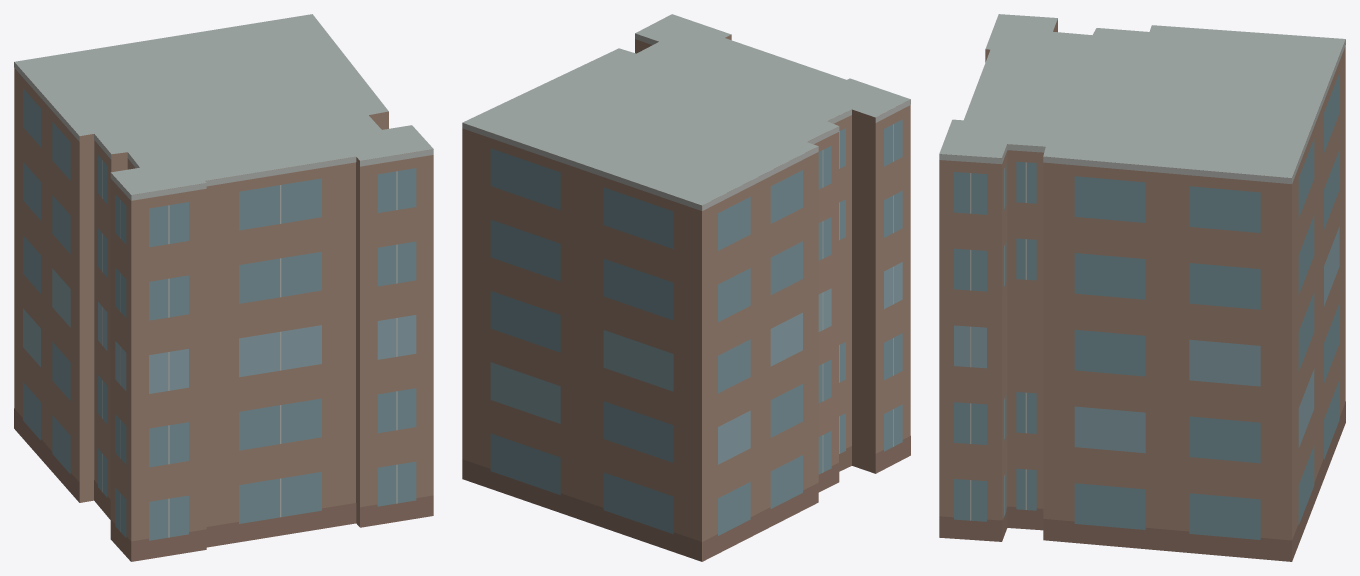
The model's file is survey-upis-32764126.glb.
3 views of the same model, side by side, from view 1: azimuth 30°, elevation 25°; view 2: azimuth 150°, elevation 25°; view 3: azimuth 270°, elevation 25° (orthographic). The views are drawn at different scales.
Parts seen in each view (by area): view 1: survey-upis-32764126.tmp; view 2: survey-upis-32764126.tmp; view 3: survey-upis-32764126.tmp.
Boxes of the visible parts, left/top/right/bottom form: survey-upis-32764126.tmp: left=14, top=14, right=433, bottom=561; survey-upis-32764126.tmp: left=462, top=14, right=910, bottom=561; survey-upis-32764126.tmp: left=939, top=14, right=1345, bottom=561.
Size of the model in its own units: 14.17 by 15.44 by 14.84.
